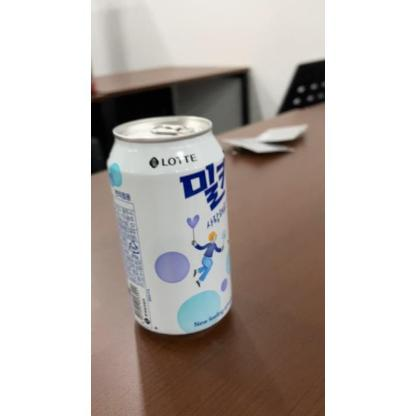Can: (105, 113, 237, 341)
